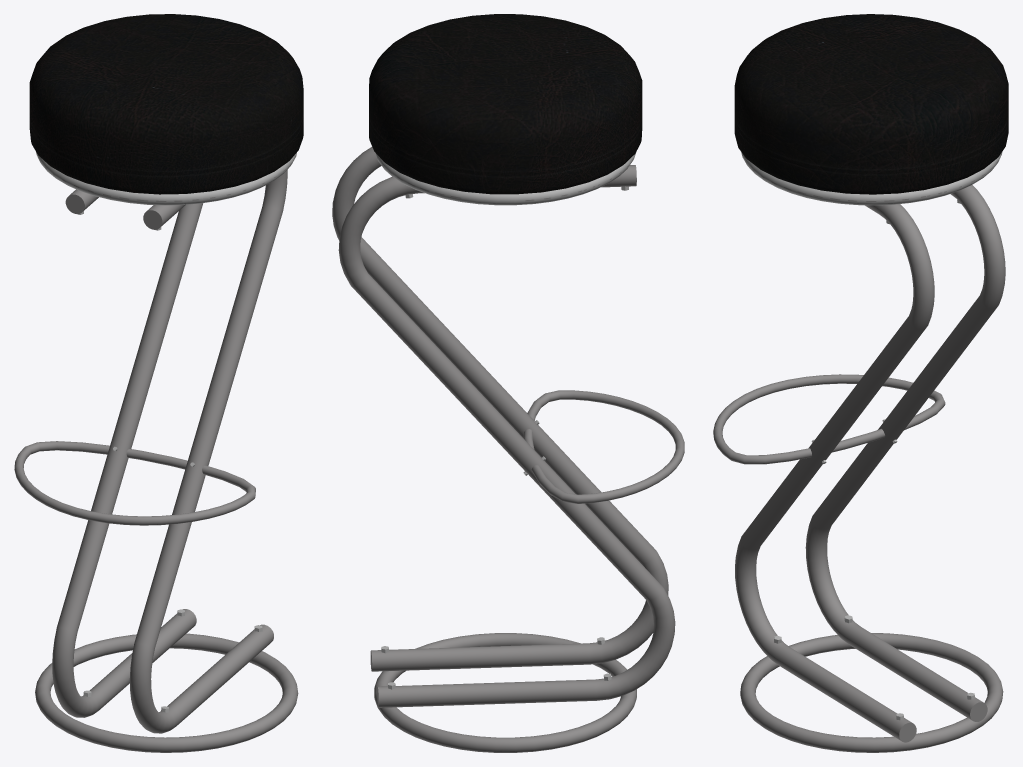
Rendered from Bar-Chair.glb.
3 views of the same model, side by side, from view 1: azimuth 30°, elevation 25°; view 2: azimuth 150°, elevation 25°; view 3: azimuth 270°, elevation 25° (orthographic).
Parts seen in each view (by area): view 1: Bar_Chair; view 2: Bar_Chair; view 3: Bar_Chair.
Boxes of the visible parts, bbox=[...] form: Bar_Chair: bbox=[14, 14, 303, 752]; Bar_Chair: bbox=[332, 14, 684, 752]; Bar_Chair: bbox=[713, 14, 1008, 752].
Bounding box in the file's own units: 0.3624 × 0.7539 × 0.3161.
Materials: 2 (2 with a texture image).
